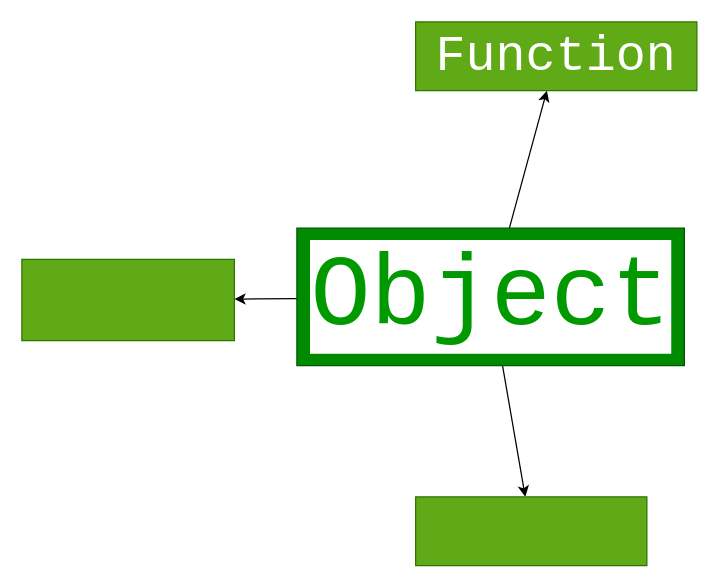
The diagram is 719 pixels wide and 588 high, and some of its shapes have lost their labels. Each missing label, with the box of its shape:
Array: (414, 496, 647, 566)
String: (21, 258, 234, 341)
